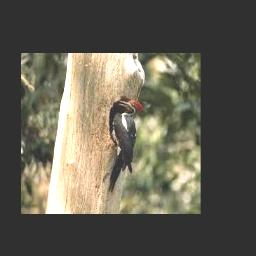Woodpecker: (108, 99, 142, 192)
